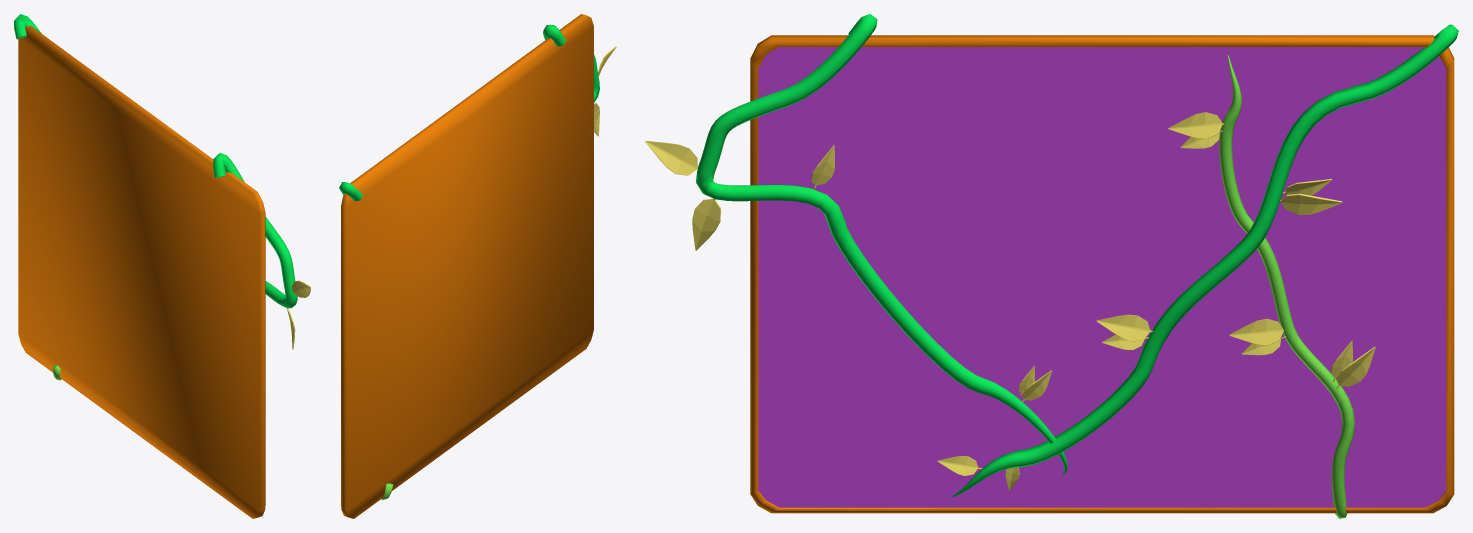
Rendered from cuadro1_presente.fbx.
The picture shows the model from 3 angles, left to right: view 1: azimuth 30°, elevation 25°; view 2: azimuth 150°, elevation 25°; view 3: azimuth 270°, elevation 25°; orthographic projection. The views are drawn at different scales.
Parts seen in each view (by area): view 1: Cuadro 1.007, Cuadro 1.006, Cuadro 1.005; view 2: Cuadro 1.007, Cuadro 1.006; view 3: Cuadro 1, Cuadro 1.007, Cuadro 1.003, Cuadro 1.006, Cuadro 1.002, Cuadro 1.001, Cuadro 1.004, Cuadro 1.005.
Part boxes in pixels (x1,y1,x2,y2): Cuadro 1.007: (18,26,265,518); Cuadro 1.006: (213,153,297,308); Cuadro 1.005: (287,280,310,349); Cuadro 1.007: (341,14,593,518); Cuadro 1.006: (543,24,599,102); Cuadro 1: (758,47,1446,507); Cuadro 1.007: (750,35,1454,513); Cuadro 1.003: (952,24,1458,497); Cuadro 1.006: (696,14,1067,475); Cuadro 1.002: (1219,55,1354,518); Cuadro 1.001: (1168,112,1375,389); Cuadro 1.004: (937,179,1342,490); Cuadro 1.005: (645,141,1052,401).
Bounding box in the file's own units: 3.42 × 31.14 × 45.57.
